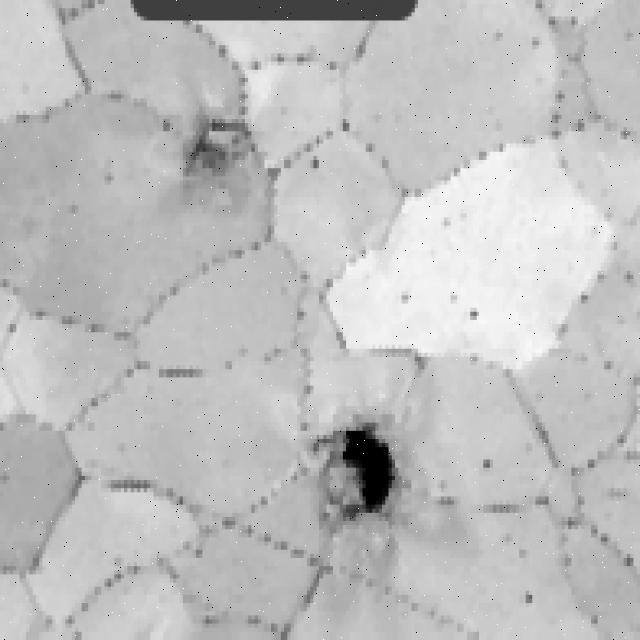good_void: (305, 392, 451, 570), (167, 116, 264, 204), (523, 584, 543, 612), (479, 452, 498, 479), (463, 304, 482, 328), (305, 154, 323, 176), (397, 290, 414, 311), (294, 308, 309, 329), (527, 33, 542, 51)
